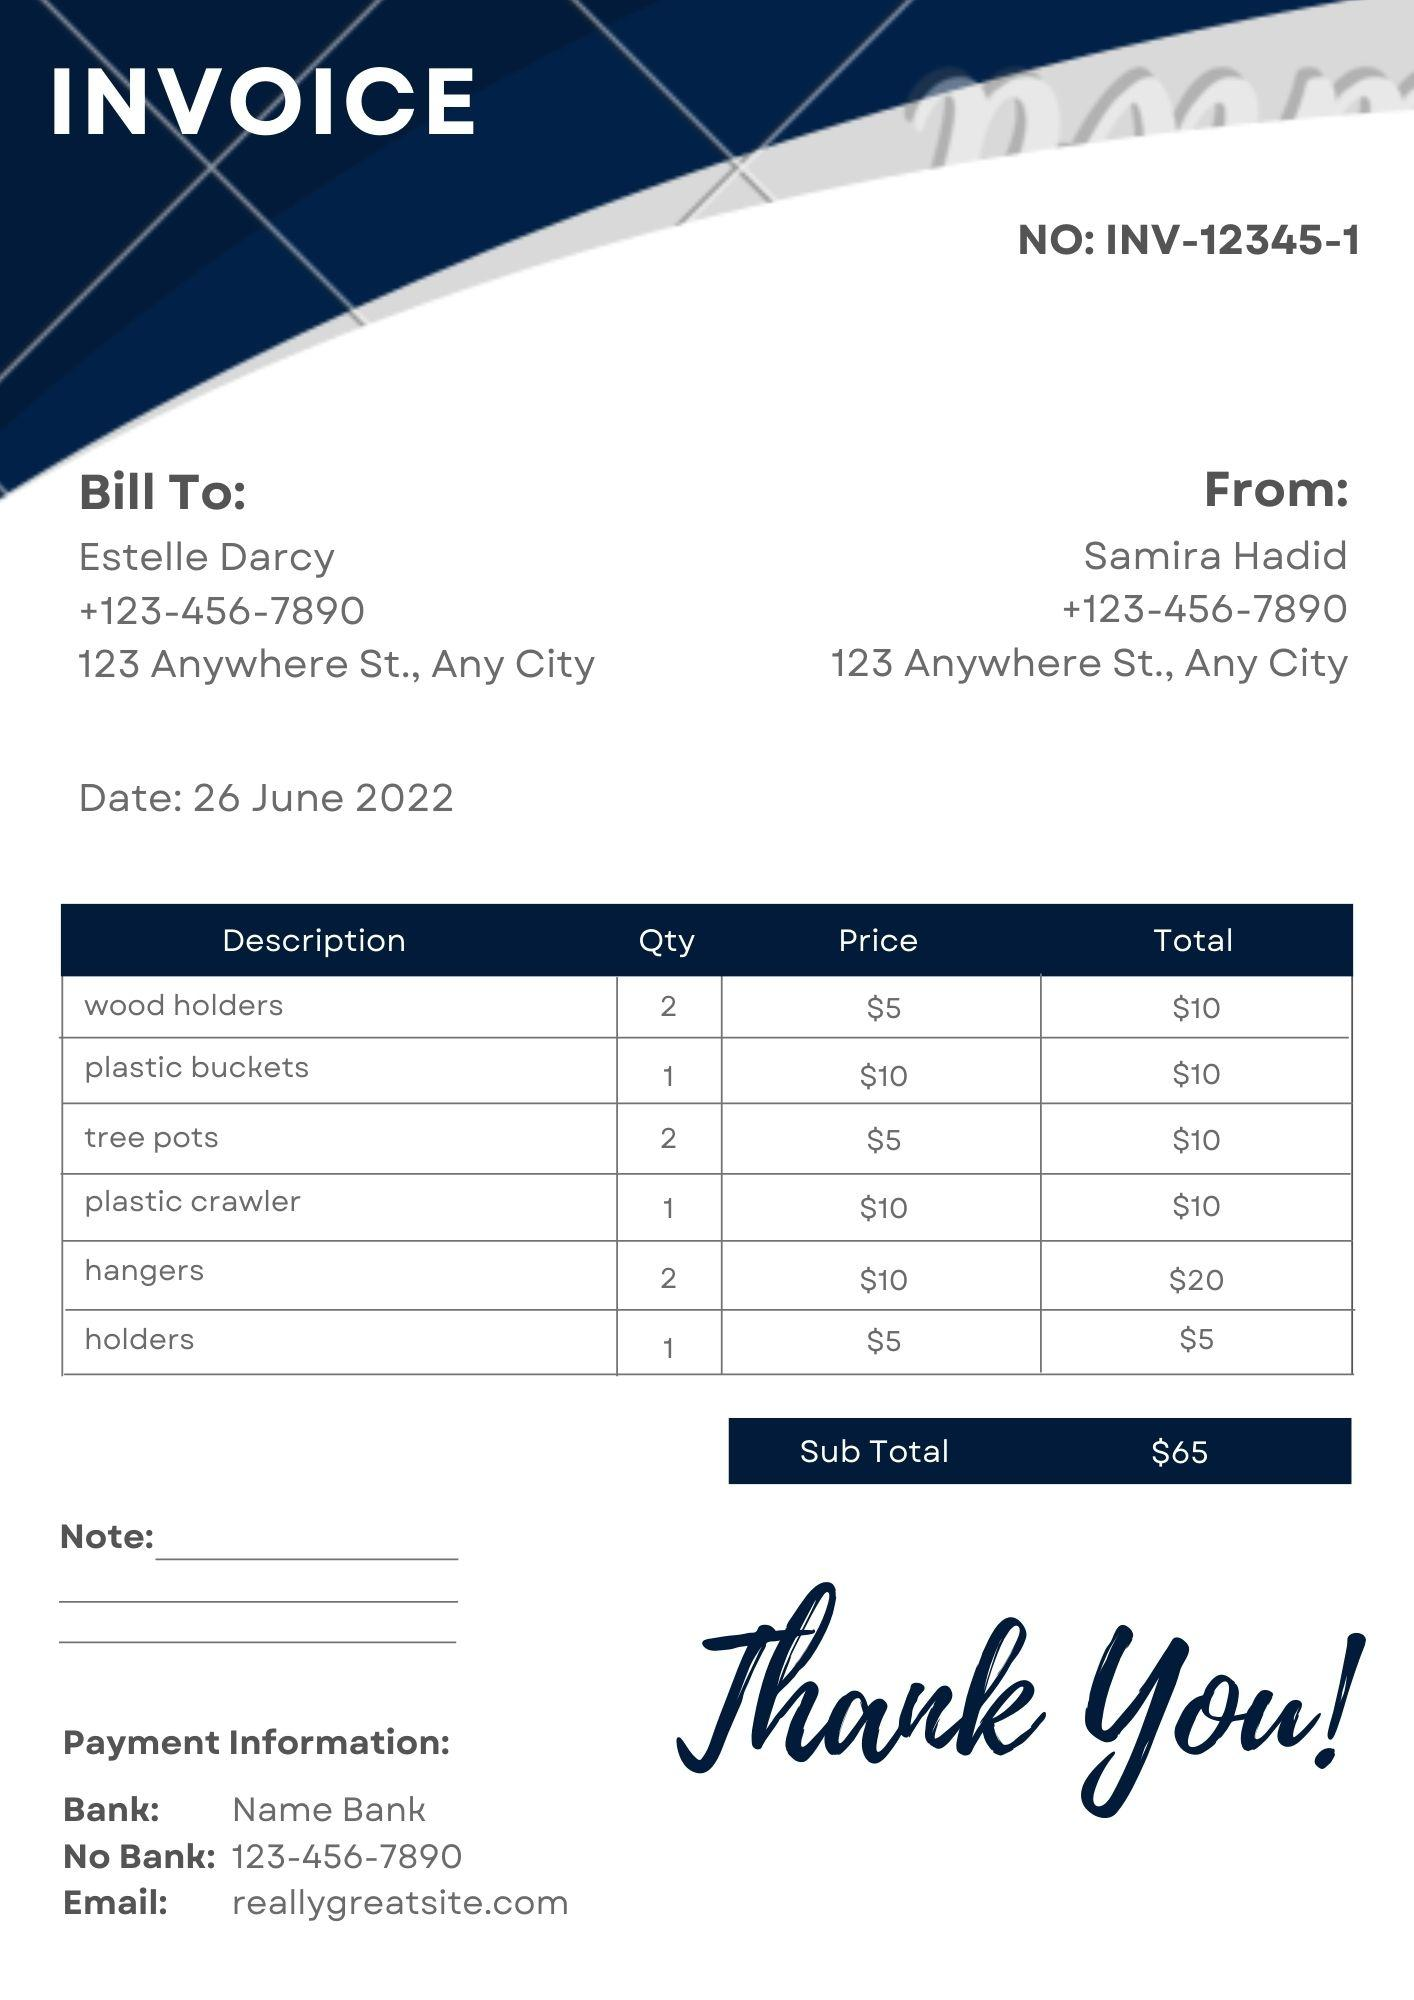ROI: (54, 899, 1361, 1382)
